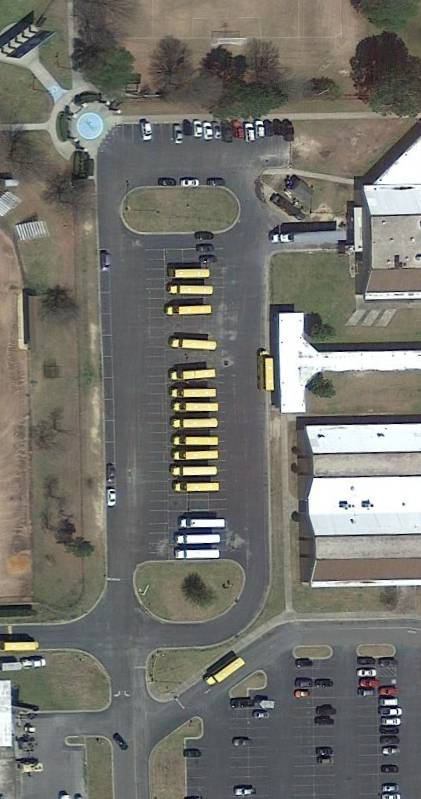large vehicle: (205, 656, 246, 688), (271, 230, 348, 244), (258, 350, 275, 391), (169, 337, 217, 351), (2, 658, 47, 672), (170, 368, 216, 381), (166, 304, 213, 316), (172, 436, 220, 447), (173, 482, 220, 493), (175, 549, 220, 560), (172, 418, 220, 428), (176, 534, 222, 544), (173, 450, 219, 460), (172, 466, 218, 476), (180, 519, 226, 529), (169, 269, 210, 280), (168, 285, 213, 295), (1, 641, 39, 652), (172, 389, 218, 398), (173, 403, 219, 412)
small vehicle: (111, 731, 131, 754), (282, 121, 296, 143), (141, 119, 153, 142), (231, 698, 255, 709), (234, 786, 258, 797), (102, 250, 113, 272), (222, 123, 234, 143), (232, 122, 244, 142), (361, 678, 382, 689), (244, 123, 255, 143), (179, 179, 201, 189), (380, 717, 402, 727), (381, 782, 401, 793), (233, 737, 253, 748), (203, 122, 213, 143), (252, 710, 273, 720), (357, 668, 378, 678), (317, 705, 338, 715), (212, 122, 223, 141), (380, 658, 399, 669), (316, 716, 335, 727), (107, 488, 118, 507), (293, 688, 310, 700), (174, 125, 184, 145), (194, 231, 214, 241), (107, 463, 117, 483), (378, 708, 403, 716), (381, 726, 401, 736), (316, 679, 334, 690), (185, 748, 203, 759), (158, 178, 177, 188), (207, 178, 226, 188), (296, 678, 315, 688), (358, 657, 377, 667), (255, 121, 265, 140), (297, 658, 314, 669), (264, 121, 275, 138), (273, 120, 283, 138), (200, 255, 218, 265), (379, 686, 397, 696), (380, 736, 400, 745), (381, 746, 401, 755), (194, 120, 203, 139), (381, 765, 400, 774), (196, 244, 214, 253), (380, 698, 398, 707), (184, 121, 194, 137), (359, 689, 376, 698), (317, 747, 335, 755), (317, 757, 335, 765)
